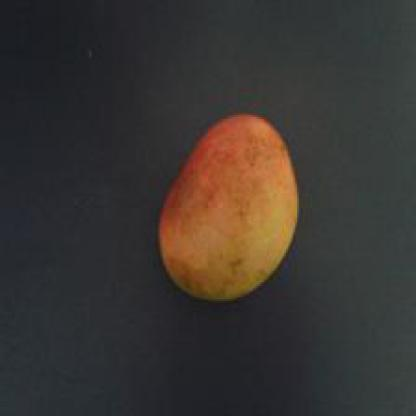mango: (152, 108, 303, 304)
